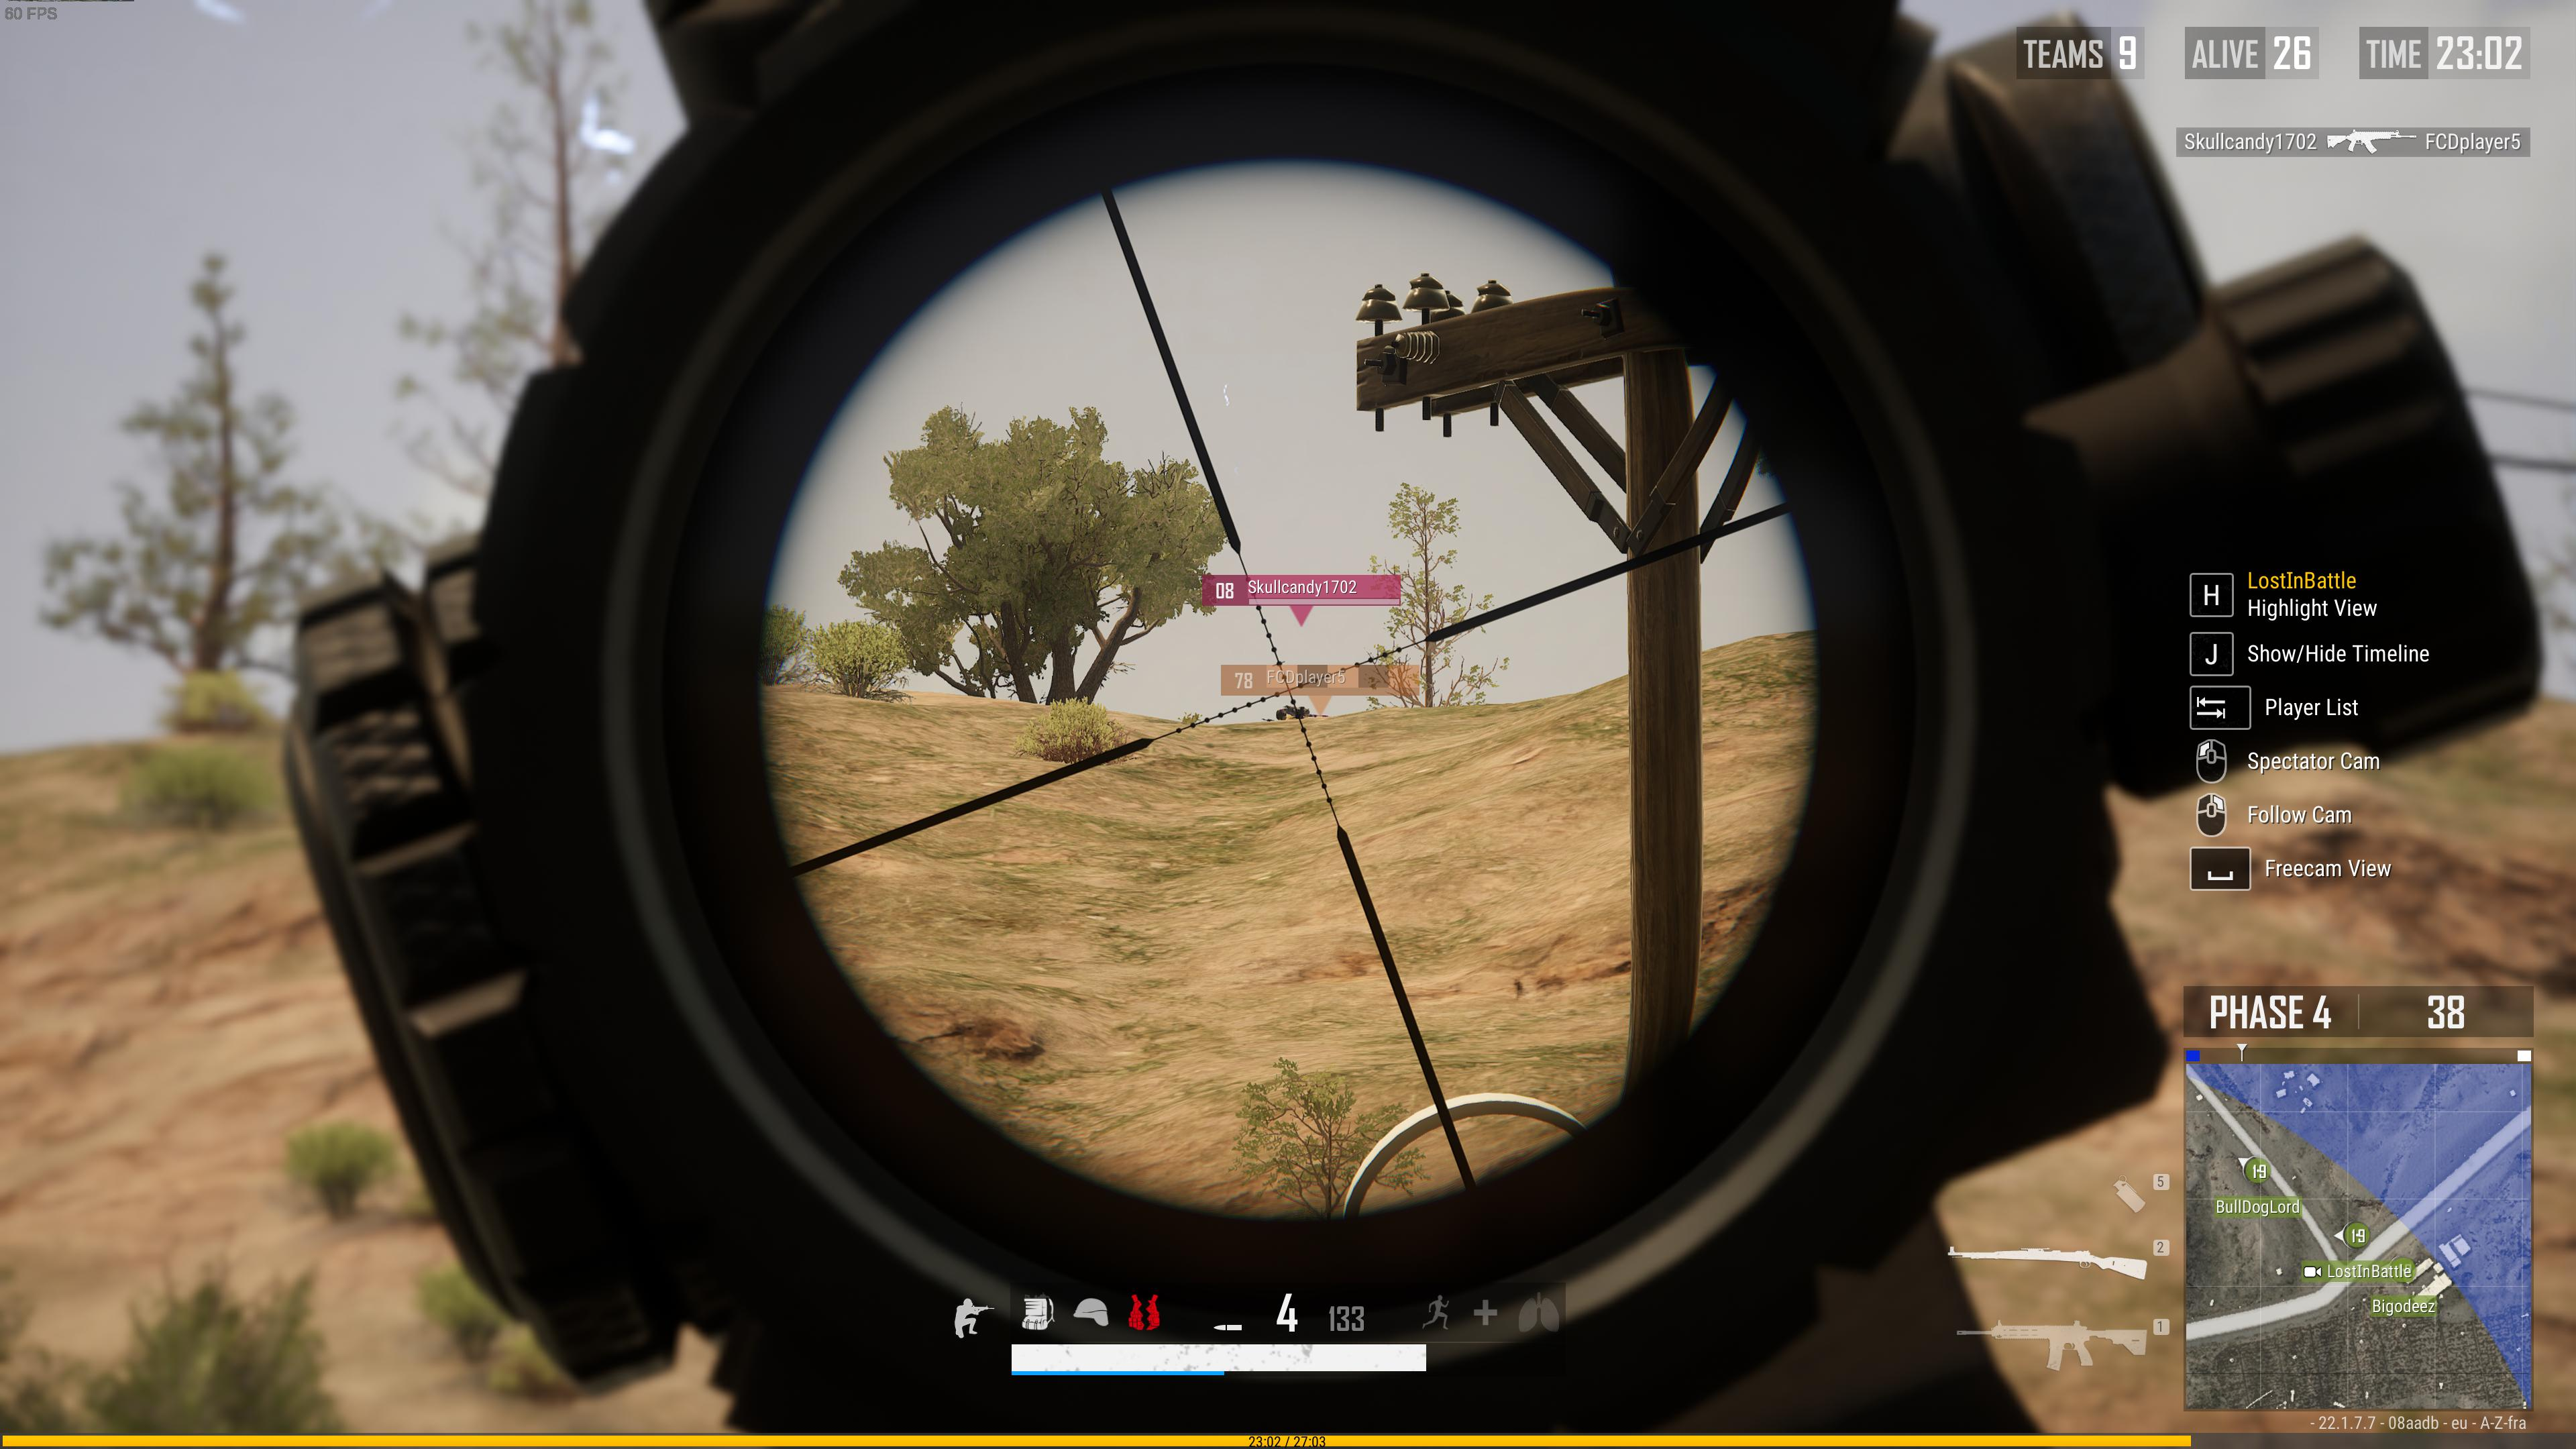enemy: (1276, 706, 1316, 720)
enemy_head: (1276, 708, 1286, 718)
